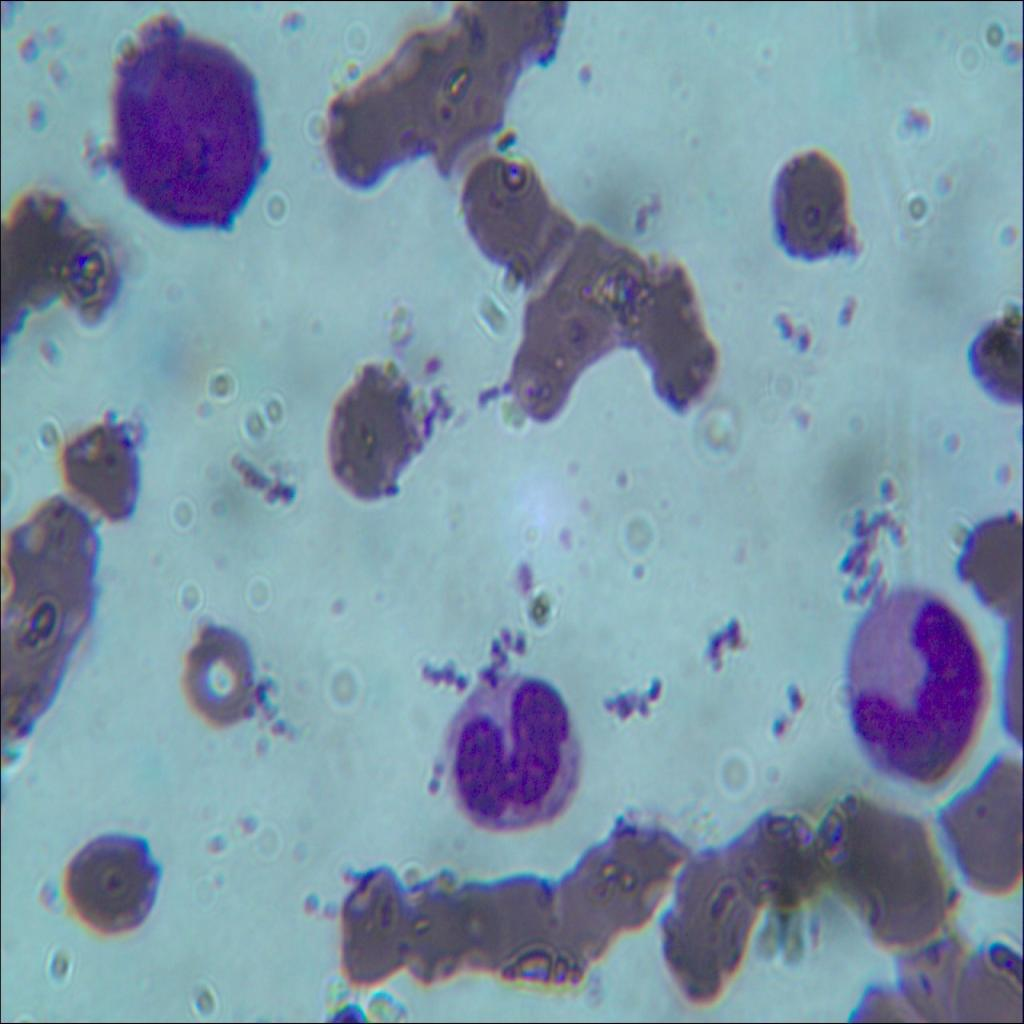Eritrosit: (822, 799, 936, 941), (394, 25, 503, 158), (319, 65, 422, 188), (3, 495, 96, 631), (944, 751, 1023, 901), (318, 376, 408, 502), (55, 840, 169, 938), (666, 849, 746, 985), (768, 144, 854, 269), (328, 856, 413, 982), (730, 807, 832, 911), (501, 310, 595, 422), (452, 152, 546, 262), (634, 294, 722, 411), (590, 818, 676, 935), (494, 867, 570, 985), (386, 865, 458, 985), (522, 211, 599, 322), (179, 611, 254, 724), (891, 908, 962, 1023), (66, 425, 143, 526), (10, 192, 73, 305), (554, 845, 618, 952), (0, 630, 66, 732), (601, 258, 670, 355), (452, 867, 506, 977)
Limfoblast: (88, 8, 270, 242)
Neutrofil: (843, 582, 984, 795), (438, 662, 591, 836)
Platelet: (982, 449, 1022, 497), (546, 512, 578, 558), (511, 552, 538, 602), (415, 348, 451, 381), (936, 426, 966, 465), (623, 559, 654, 595), (316, 588, 346, 625), (878, 461, 903, 504), (570, 484, 596, 524), (299, 888, 328, 920), (995, 216, 1021, 246), (558, 456, 584, 481), (610, 464, 630, 492)
